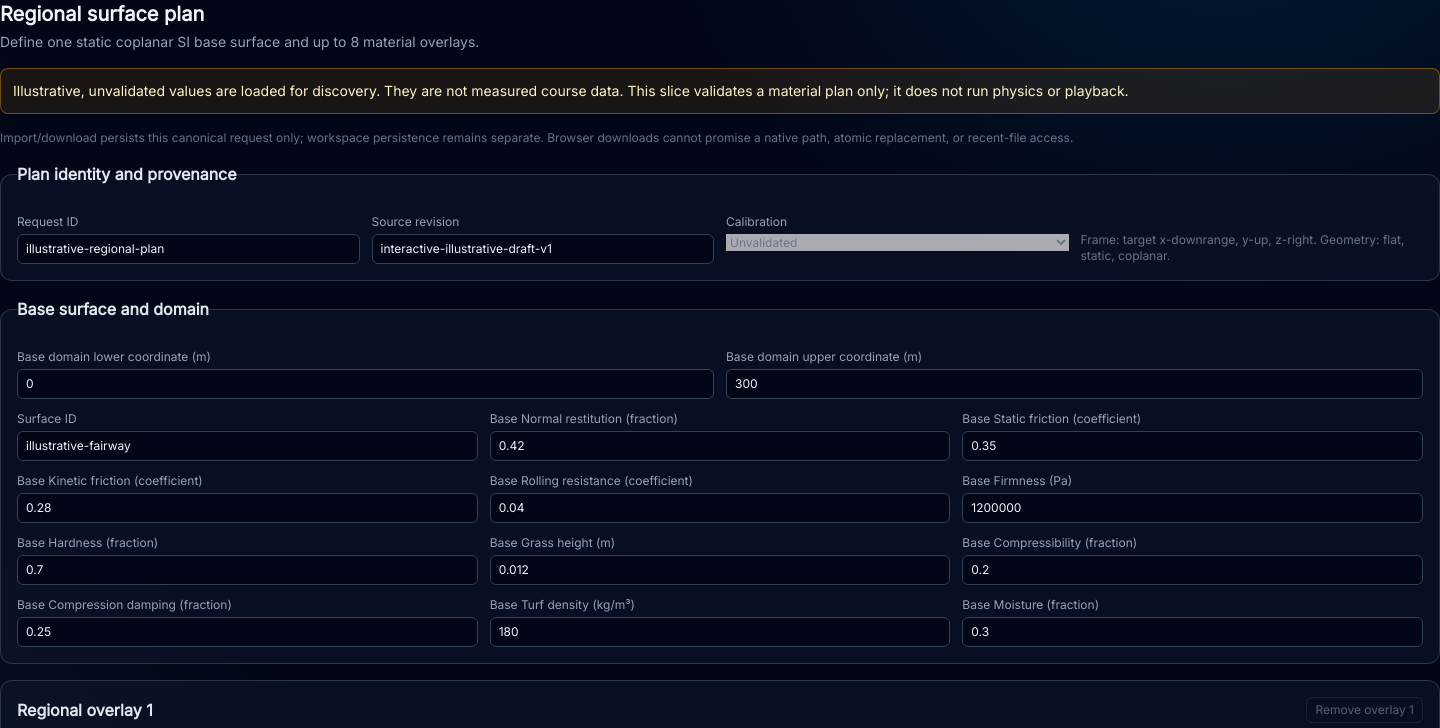
it: RegionalSurfacePlanPanel › rejects integer-valued material numbers beyond the cross-runtime safe range
The width and height of the screenshot is (1440, 728).
Replace the text in the number field labelled "Base Firmness (Pa)" with "10000000000000000" at (1193, 508), box [962,493,1423,523]
(page scrolled)
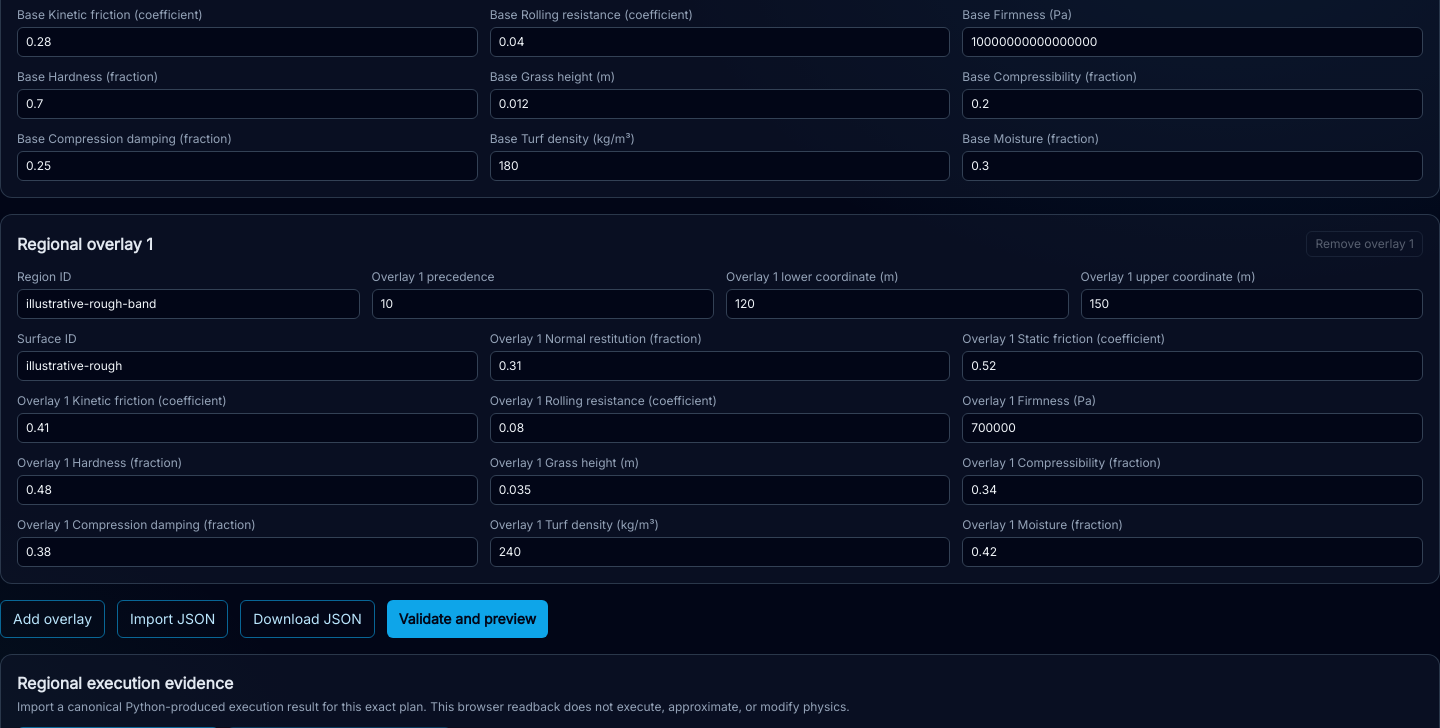
Click the button with aria-label "Validate surface plan".
click(467, 619)  # box [387,600,548,638]
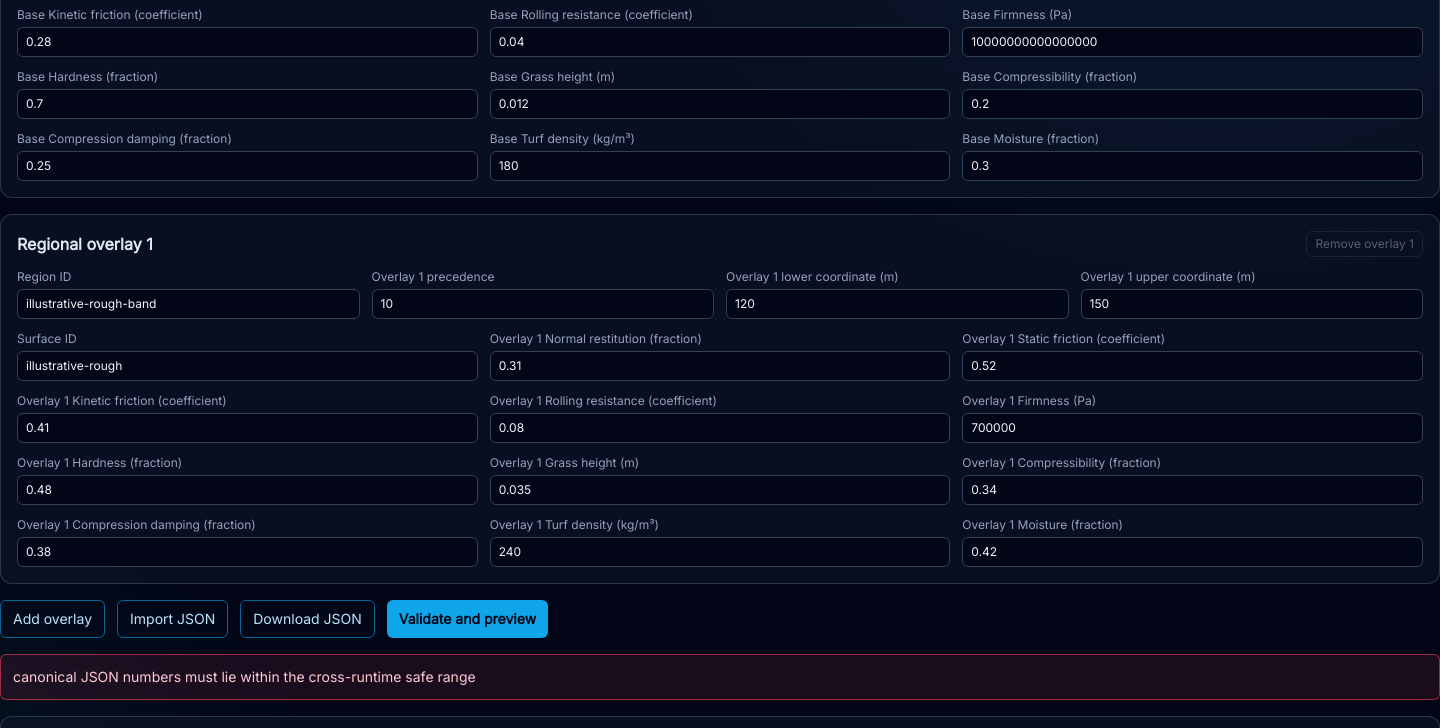
Expected: the message shows "cross-runtime safe range", [13,668,476,685]
